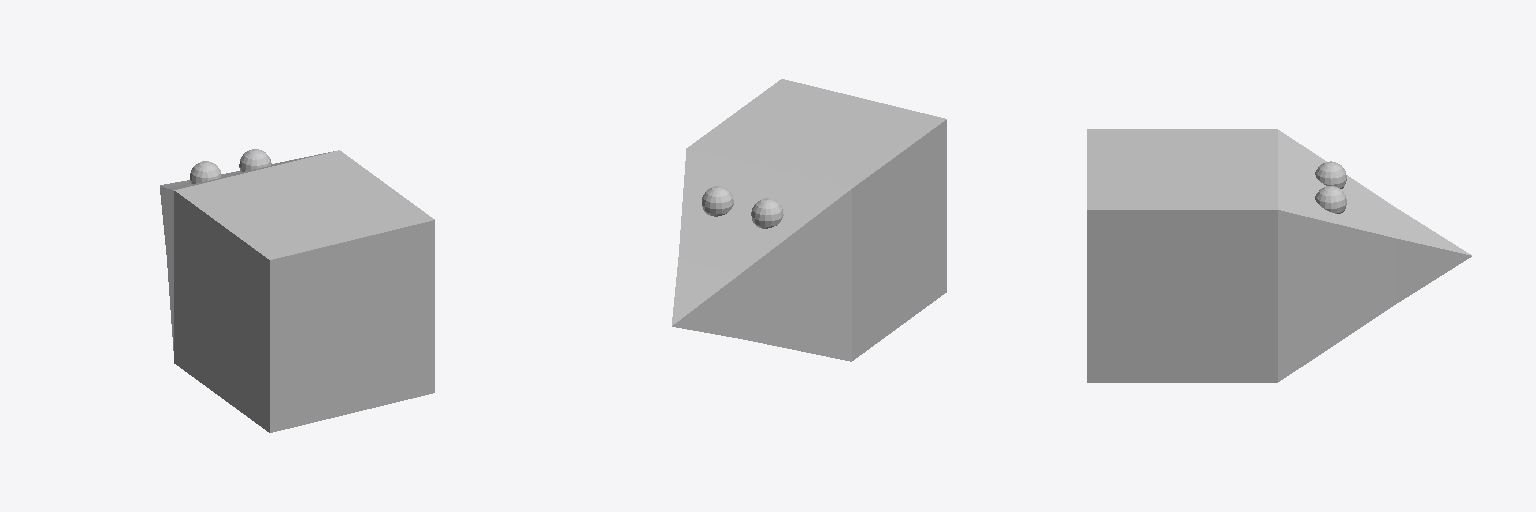
The model's file is generic_object.obj.
3 views of the same model, side by side, from view 1: azimuth 30°, elevation 25°; view 2: azimuth 150°, elevation 25°; view 3: azimuth 270°, elevation 25° (orthographic).
Parts seen in each view (by area): view 1: Cube, Sphere.001_Sphere.002; view 2: Cube, tip_Cube.001, Sphere.001_Sphere.002; view 3: Cube, tip_Cube.001, Sphere.001_Sphere.002.
Boxes of the visible parts, x1=… form: Cube: x1=166, y1=150, x2=434, y2=432; Sphere.001_Sphere.002: x1=190, y1=149, x2=271, y2=183; Cube: x1=678, y1=79, x2=946, y2=361; tip_Cube.001: x1=672, y1=260, x2=738, y2=338; Sphere.001_Sphere.002: x1=702, y1=186, x2=783, y2=228; Cube: x1=1087, y1=129, x2=1397, y2=382; tip_Cube.001: x1=1398, y1=209, x2=1471, y2=302; Sphere.001_Sphere.002: x1=1315, y1=161, x2=1346, y2=213.
Bounding box in the file's own units: 2 × 2 × 4.04.